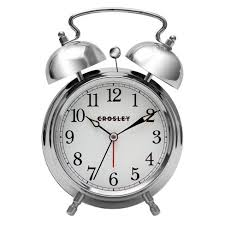alarm_clock: (35, 8, 194, 217), (35, 8, 183, 217), (40, 4, 183, 217), (40, 8, 183, 217)
